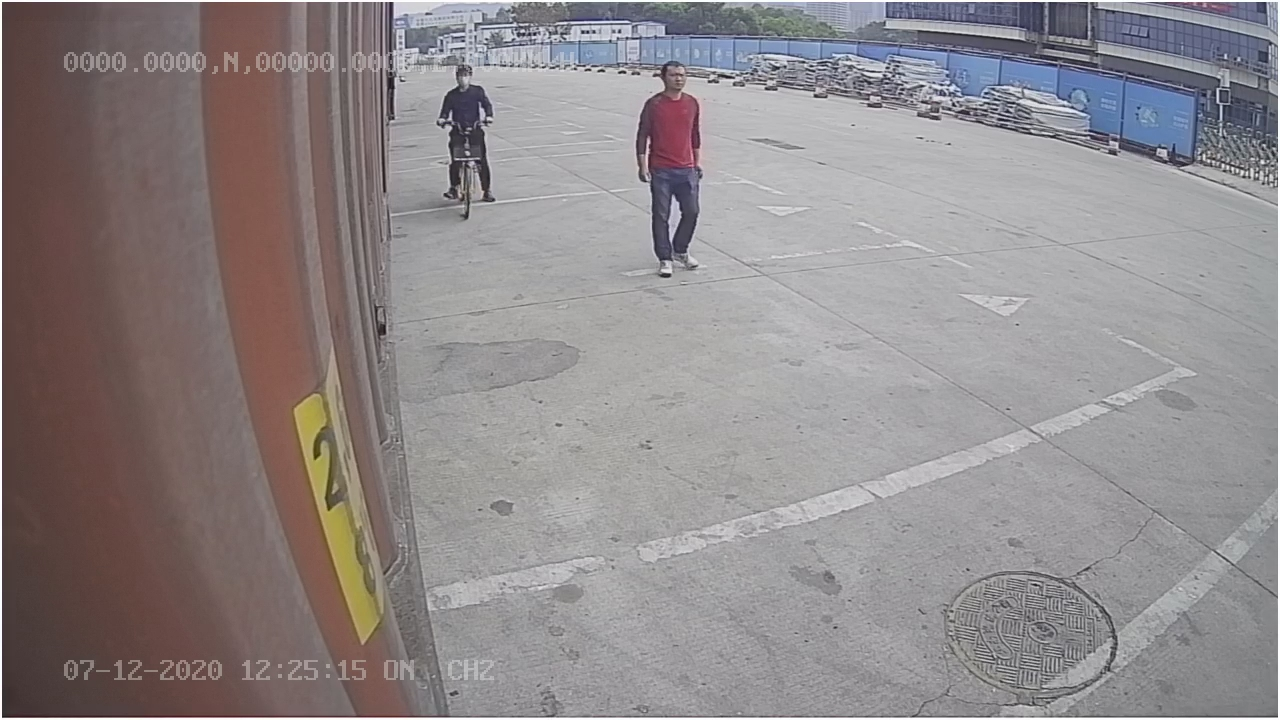person: (631, 60, 709, 282)
